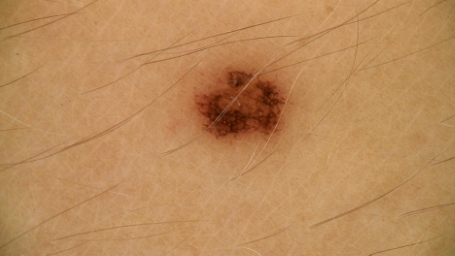nevus: (198, 70, 285, 139)
